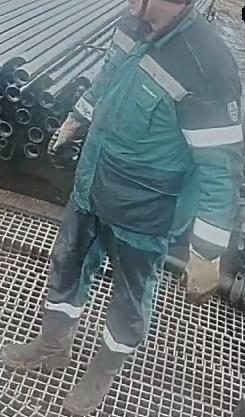gloves: (177, 242, 221, 308), (45, 111, 91, 169)
vest: (71, 9, 244, 238)
